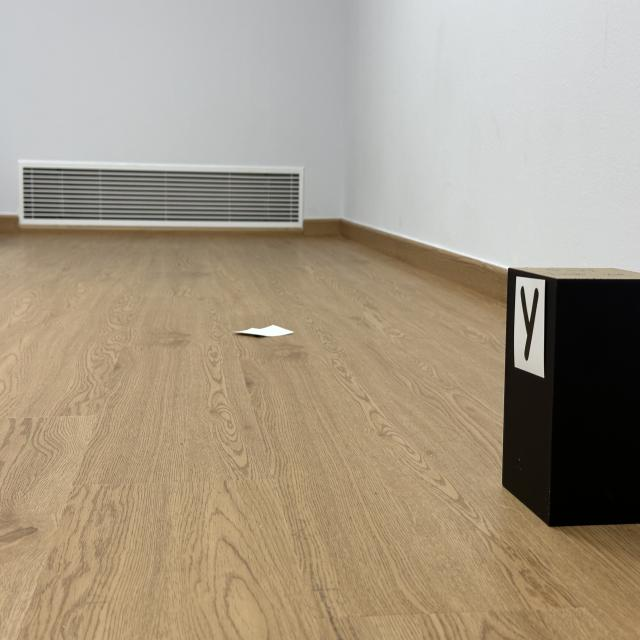Y: (520, 287, 539, 360)
